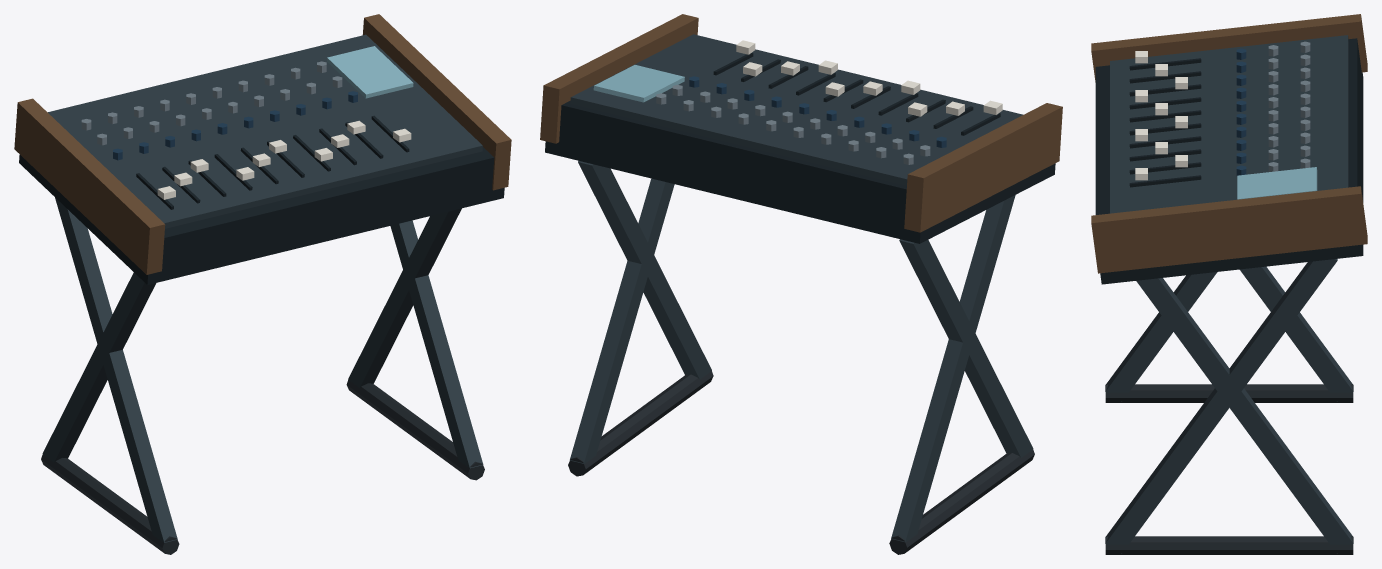
Rendered from b20_portable_audio_mixing_console.glb.
The picture shows the model from 3 angles, left to right: view 1: azimuth 30°, elevation 25°; view 2: azimuth 150°, elevation 25°; view 3: azimuth 270°, elevation 25°; orthographic projection. The views are drawn at different scales.
Parts seen in each view (by area): view 1: b20_portable_audio_mixing_console; view 2: b20_portable_audio_mixing_console; view 3: b20_portable_audio_mixing_console.
Part boxes in pixels (x1,y1,x2,y2): b20_portable_audio_mixing_console: [14, 14, 511, 554]; b20_portable_audio_mixing_console: [540, 14, 1062, 554]; b20_portable_audio_mixing_console: [1091, 14, 1367, 554].
Size of the model in its own units: 1.07 by 1.04 by 0.6919.
